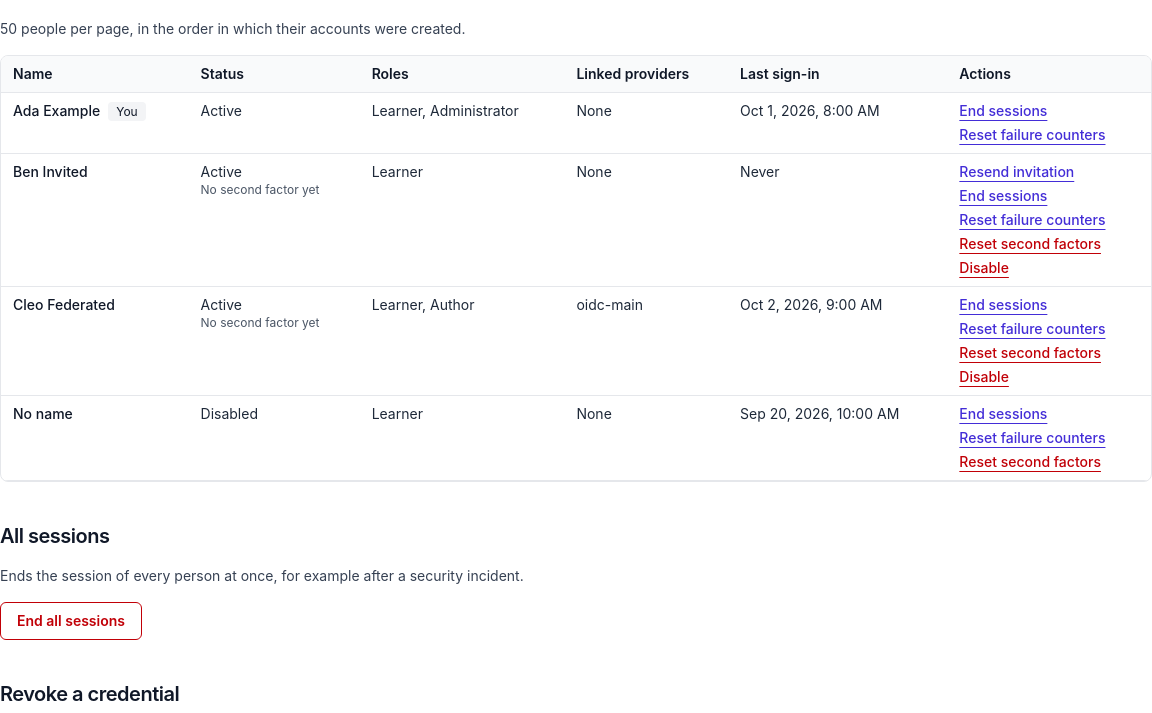
Test: the actions per user › the reset dialog starts unchecked each time and Cancel sends nothing
(page scrolled)
Click the button "Reset second factors" below "Oct 2, 2026, 9:00 AM": (1030, 353) left=959, top=343, right=1101, bottom=363
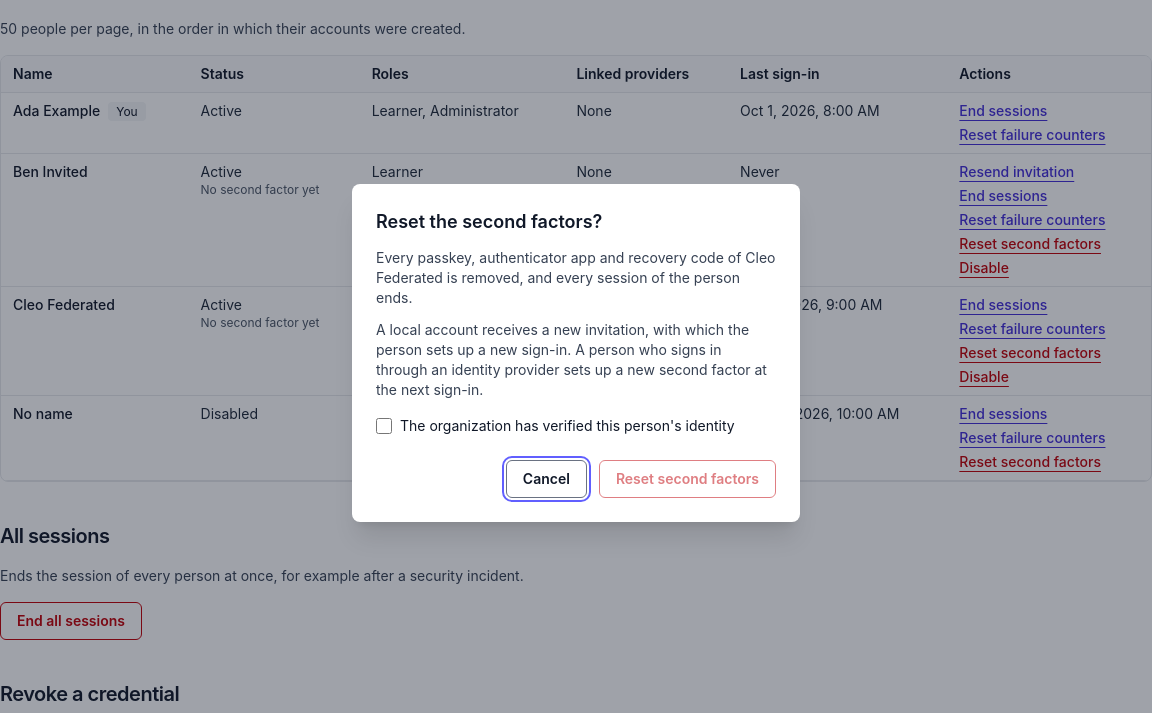
Click the checkbox: (384, 426) left=376, top=418, right=392, bottom=434
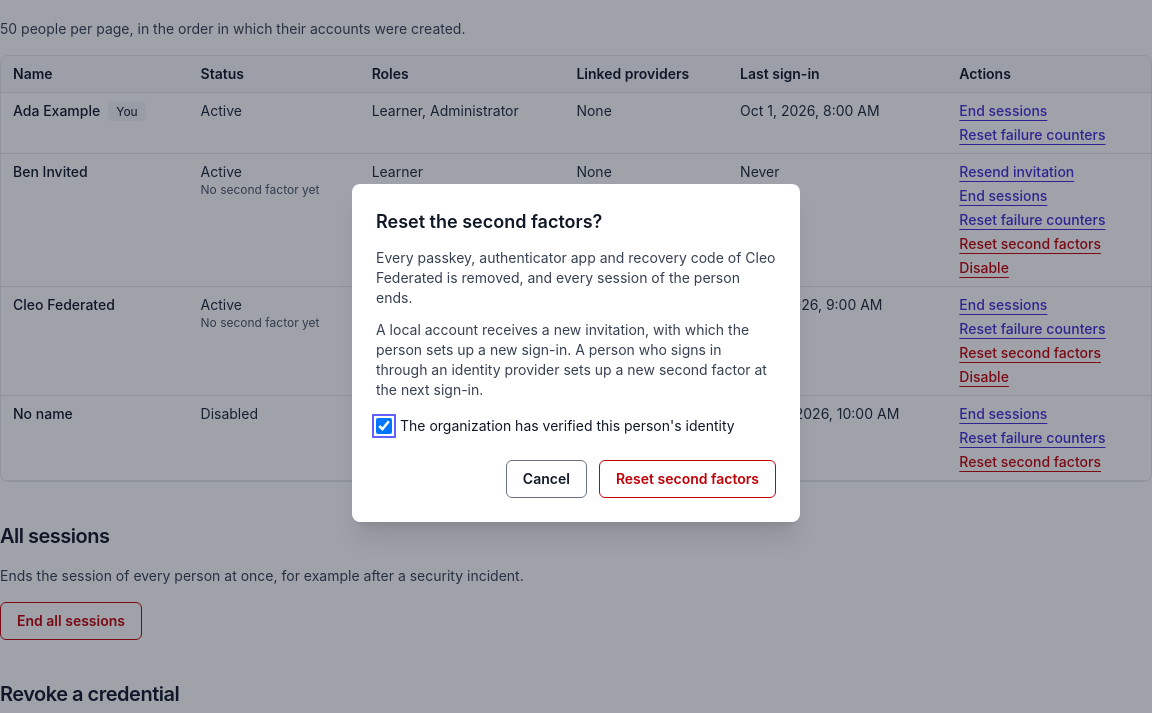
Click the button "Cancel": (546, 479) left=506, top=460, right=587, bottom=498
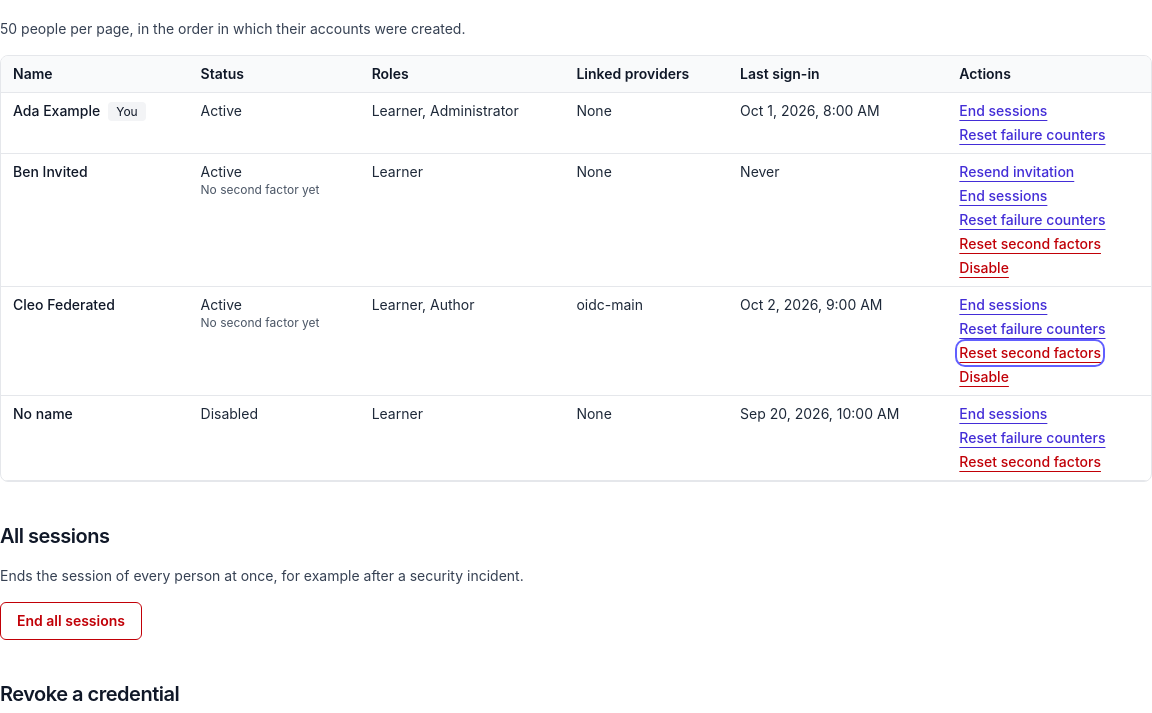
Click the button "Reset second factors" below "Oct 2, 2026, 9:00 AM": (1030, 353) left=959, top=343, right=1101, bottom=363
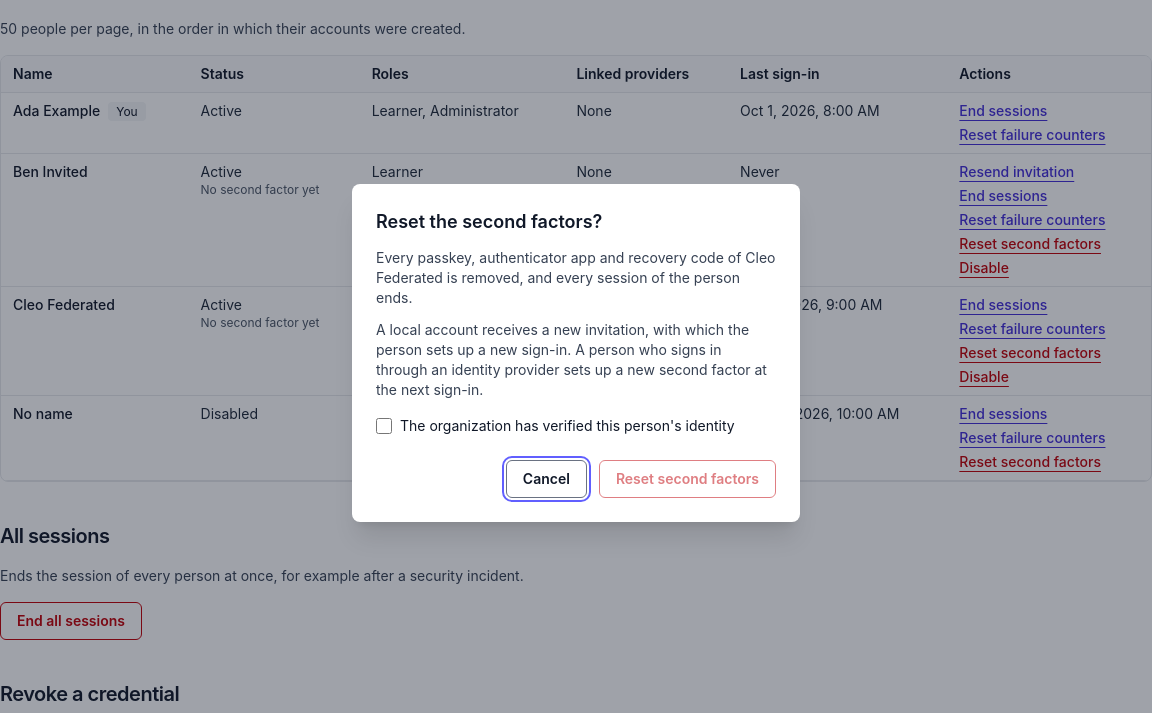
Expected: the checkbox is not checked, left=376, top=418, right=392, bottom=434
